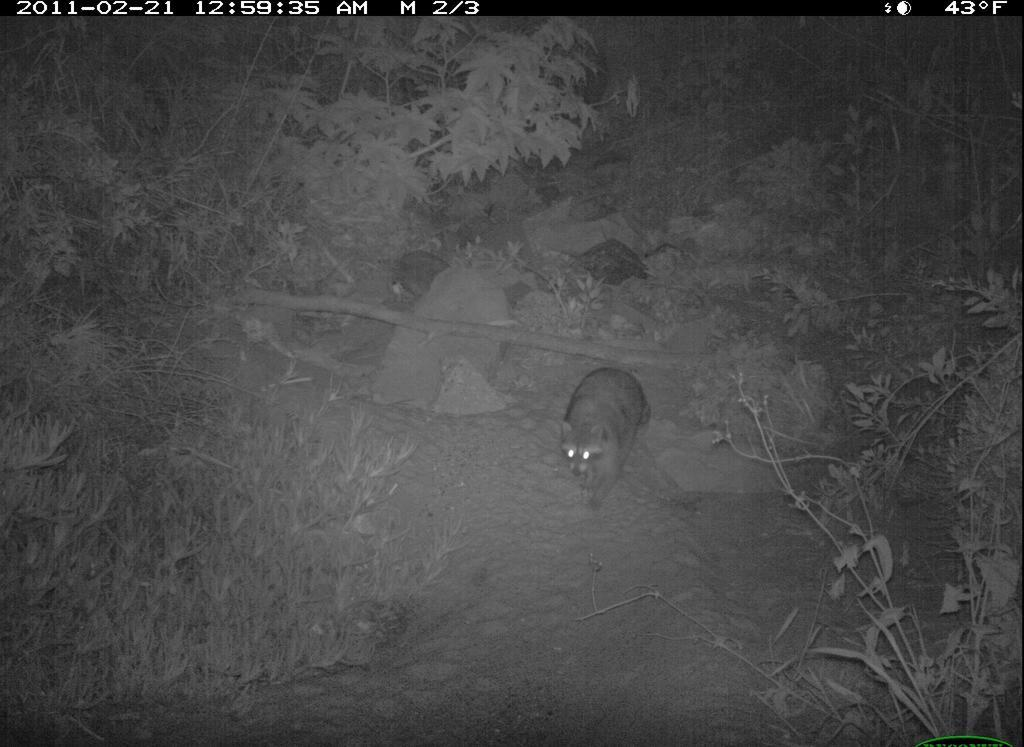raccoon: (560, 363, 657, 516)
